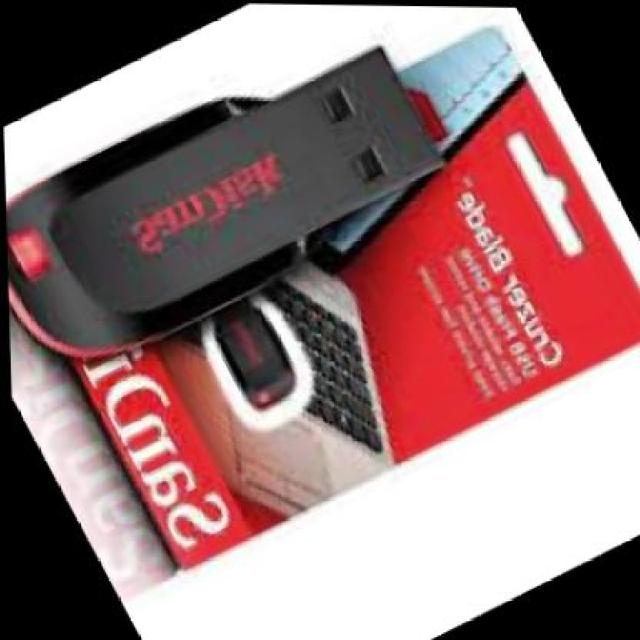Flashdisk: (0, 3, 466, 399)
